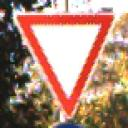preferencia: (12, 9, 120, 120)
